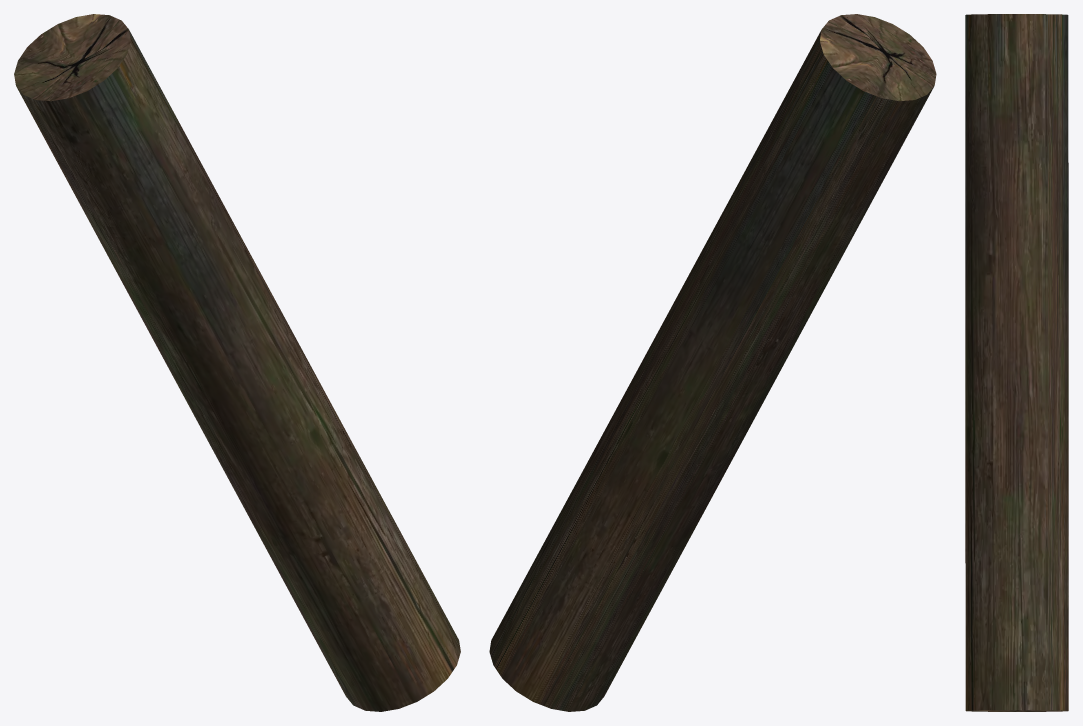
3 views of the same model, side by side, from view 1: azimuth 30°, elevation 25°; view 2: azimuth 150°, elevation 25°; view 3: azimuth 270°, elevation 25° (orthographic). The views are drawn at different scales.
Visible parts, largest first — view 1: SM_BB_T1_Beam_Thin_Med_Shallow_LOD0; view 2: SM_BB_T1_Beam_Thin_Med_Shallow_LOD0; view 3: SM_BB_T1_Beam_Thin_Med_Shallow_LOD0.
Boxes of the visible parts, bbox=[...] form: SM_BB_T1_Beam_Thin_Med_Shallow_LOD0: bbox=[14, 14, 460, 711]; SM_BB_T1_Beam_Thin_Med_Shallow_LOD0: bbox=[489, 14, 936, 711]; SM_BB_T1_Beam_Thin_Med_Shallow_LOD0: bbox=[965, 14, 1068, 711].
Bounding box in the file's own units: 0.9765 × 1.61 × 0.2504.
